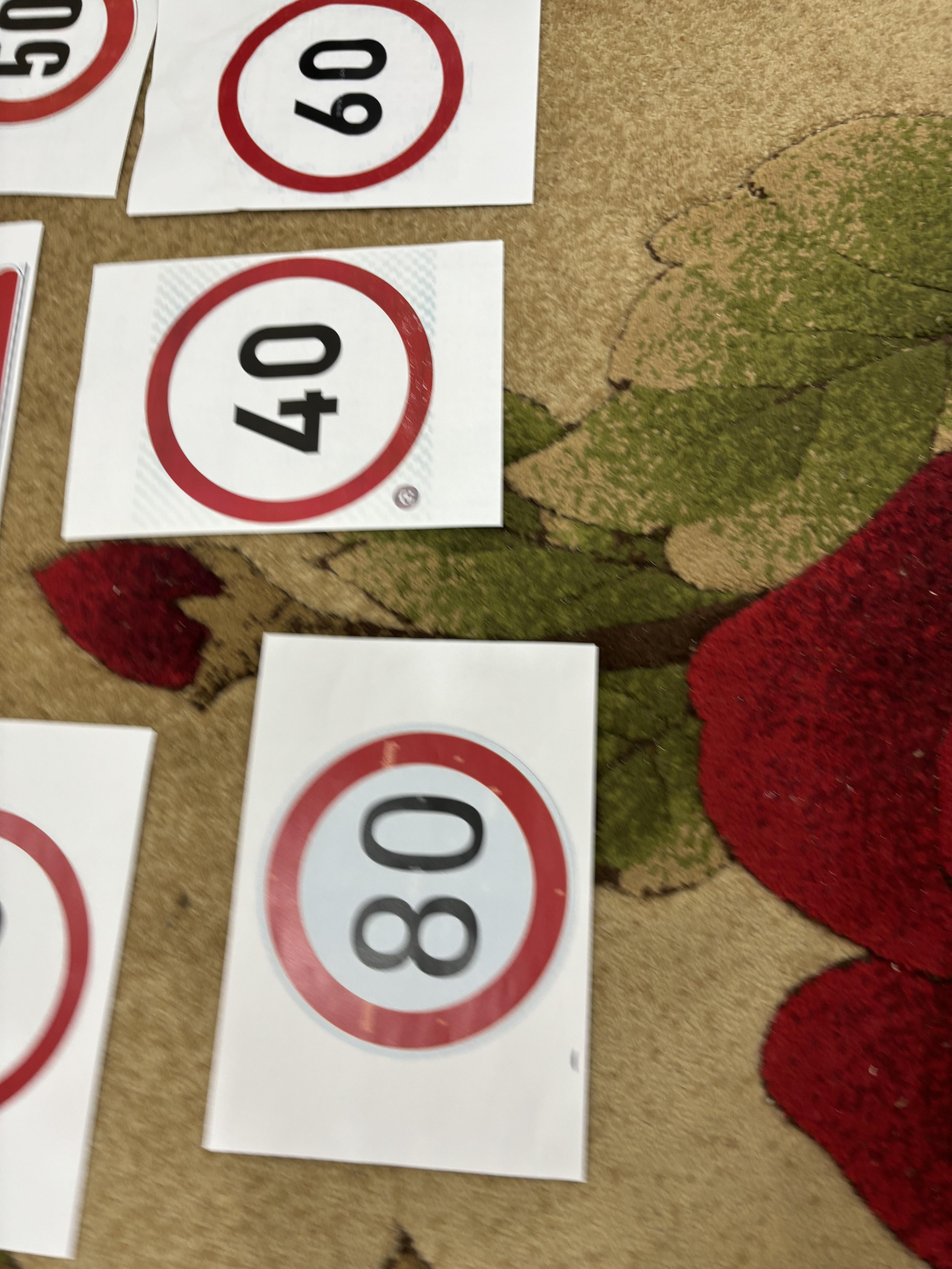40-Speed: (143, 254, 438, 518)
60-Speed: (200, 0, 474, 196)
80-Speed: (252, 716, 584, 1064)
